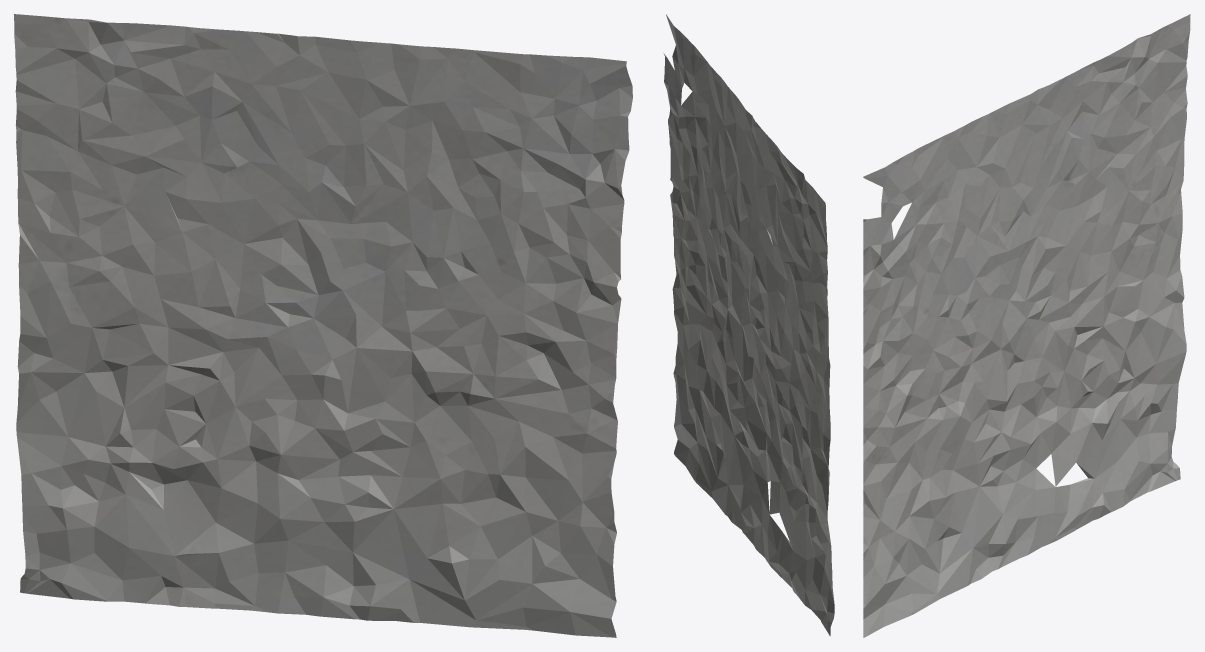
3 renders of one model, left to right at view 1: azimuth 30°, elevation 25°; view 2: azimuth 150°, elevation 25°; view 3: azimuth 270°, elevation 25°, orthographic. The views are drawn at different scales.
Size of the model in its own units: 0.6368 by 0.8374 by 0.5334.
Materials: 2 (2 with a texture image).
